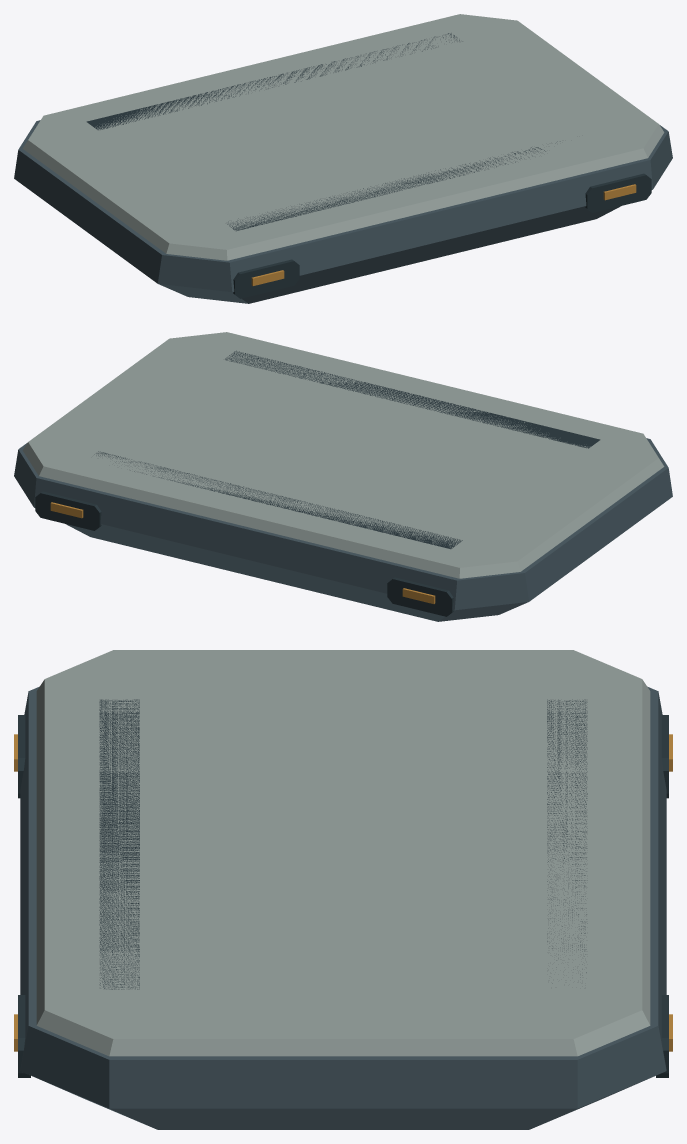
File: MR-06_docking_sled.glb
The picture shows the model from 3 angles, top to bottom: view 1: azimuth 30°, elevation 25°; view 2: azimuth 150°, elevation 25°; view 3: azimuth 270°, elevation 25°; orthographic projection. The views are drawn at different scales.
Visible parts, largest first — view 1: MR-06_docking_sled; view 2: MR-06_docking_sled; view 3: MR-06_docking_sled.
Boxes of the visible parts, x1,y1,x2,y2 form: MR-06_docking_sled: (14,14,672,303); MR-06_docking_sled: (14,332,672,621); MR-06_docking_sled: (14,650,672,1129).
Bounding box in the file's own units: 1.2 × 0.159 × 0.816.
